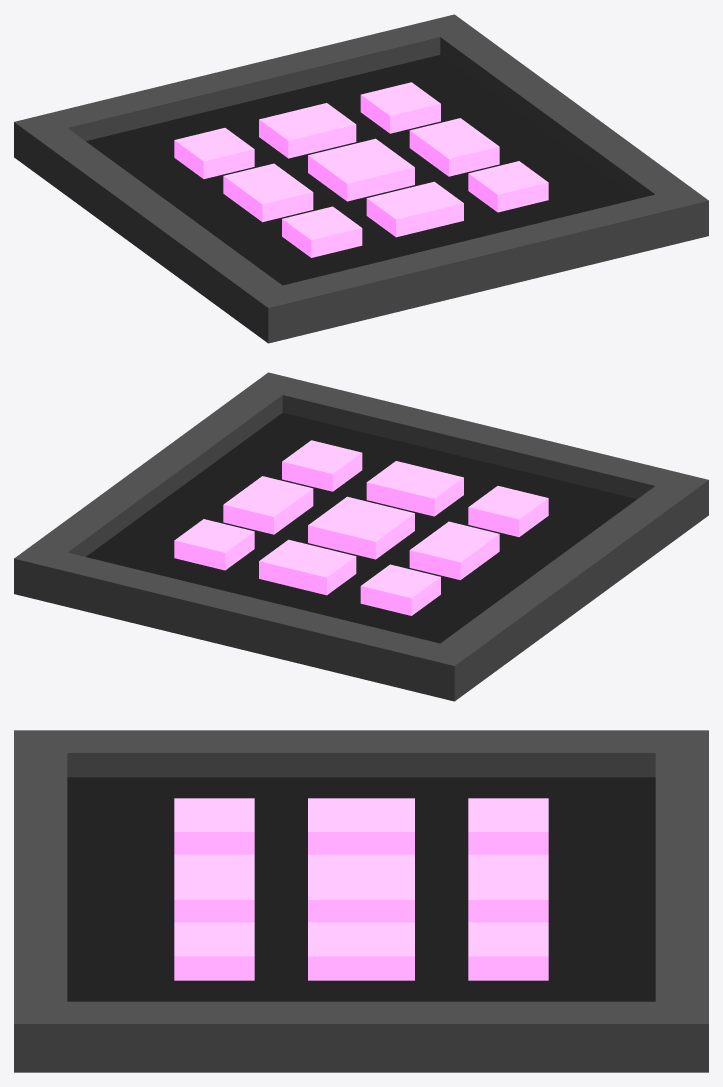
The model's file is trap_DOTS_VIOLET.glb.
3 views of the same model, one above another, from view 1: azimuth 30°, elevation 25°; view 2: azimuth 150°, elevation 25°; view 3: azimuth 270°, elevation 25° (orthographic). The views are drawn at different scales.
Parts seen in each view (by area): view 1: item_TRAP_DOTS_VIOLET; view 2: item_TRAP_DOTS_VIOLET; view 3: item_TRAP_DOTS_VIOLET.
Boxes of the visible parts, <box> form: item_TRAP_DOTS_VIOLET: <box>14,14,708,343</box>; item_TRAP_DOTS_VIOLET: <box>14,372,708,701</box>; item_TRAP_DOTS_VIOLET: <box>14,730,708,1072</box>.
Bounding box in the file's own units: 0.5909 × 0.0455 × 0.5909.
Materials: 1 (1 with a texture image).
